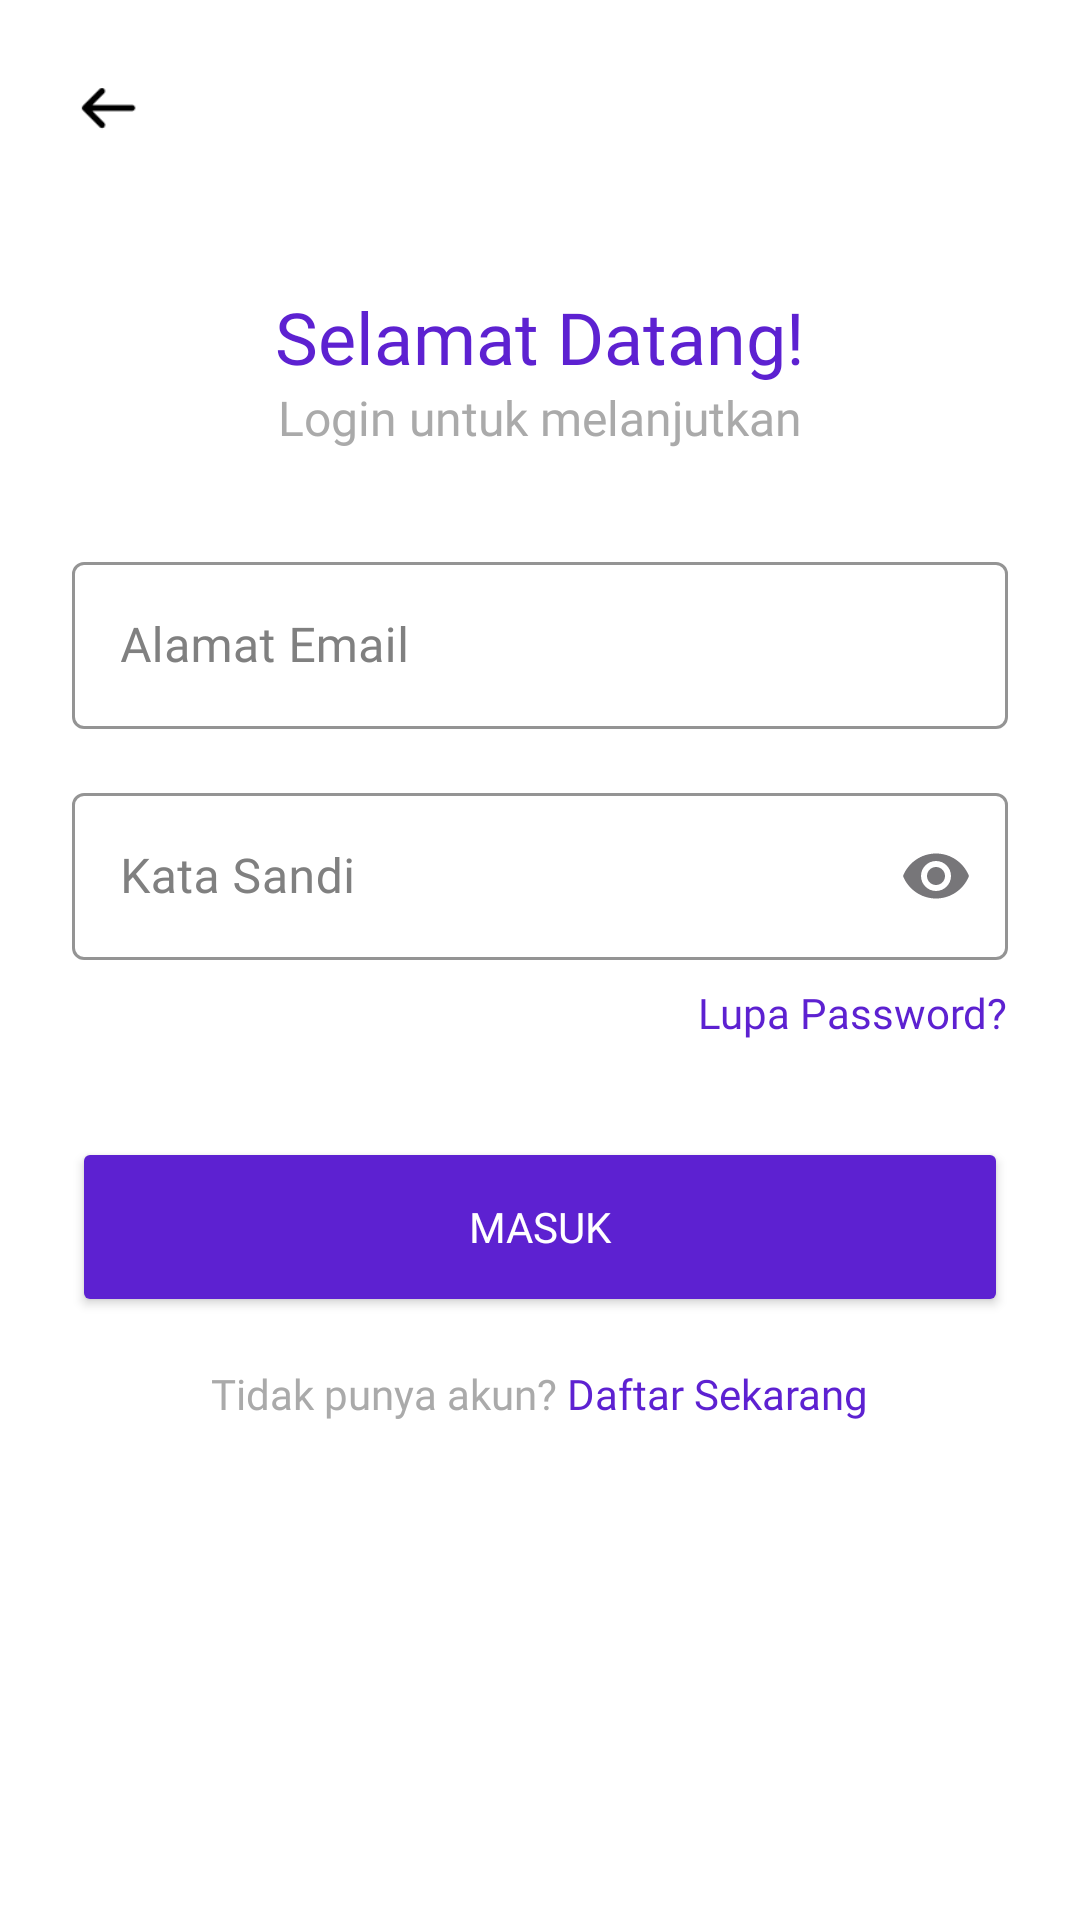

Icons on this 1080 x 1920 Android screen, each with its box as (x1, y1, x2, y2):
Kembali: (81, 88, 136, 129)
